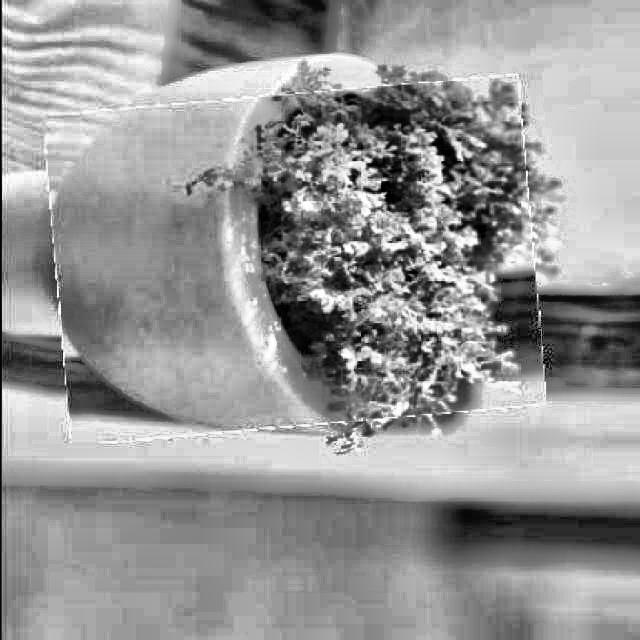plants: (48, 83, 537, 434)
